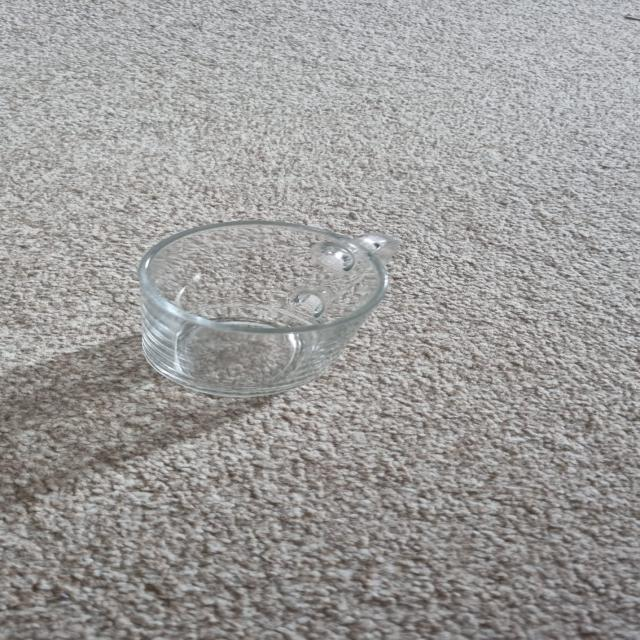Cup: (138, 220, 397, 398)
